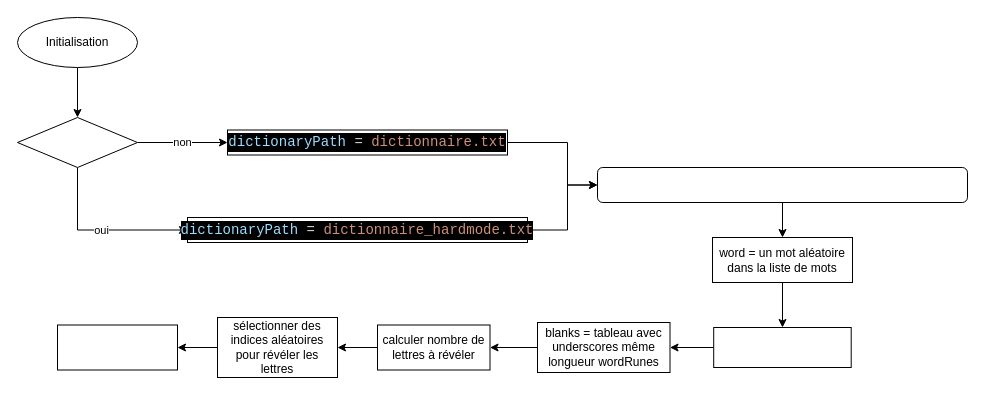
This 993x395 diagram has some shape labels left out. The shapes that lost their labels are listed below. From the top down, each one's centre as x and y in pixels, then its label:
the point at 77,142: flag -hardmode?
the point at 782,184: readDictionaryWords ( dictionaryPath ) ([] string)
the point at 117,347: révéler les lettres aux indices choisis
the point at 782,347: wordRunes = tableau avec lettres de word
